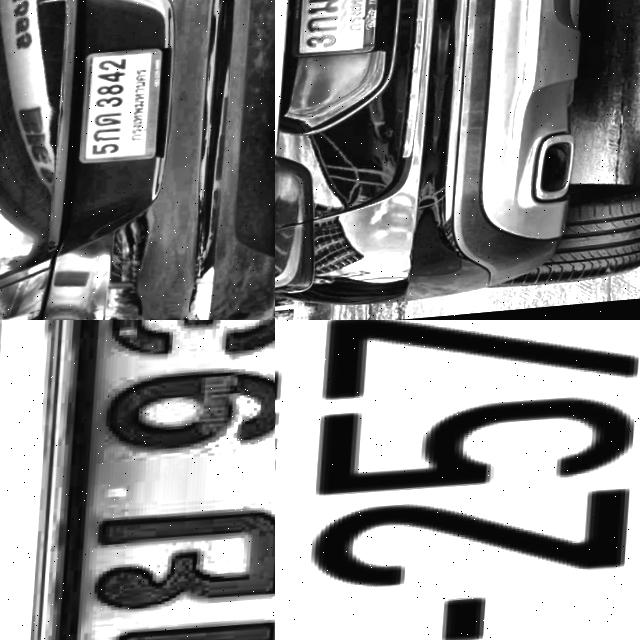license-plate: (275, 320, 640, 640), (43, 320, 275, 640), (79, 53, 168, 167), (292, 0, 389, 64)
